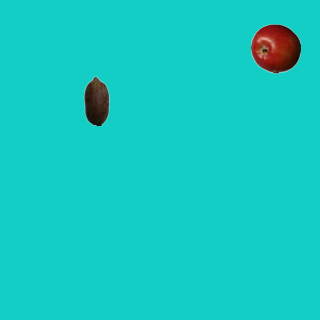Apple Braeburn: (250, 23, 300, 73)
Nut Pecan: (71, 75, 121, 125)
